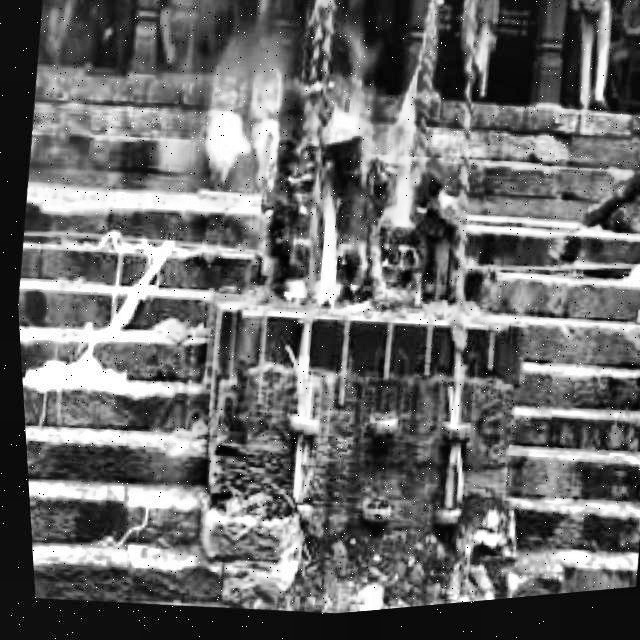Fire: (281, 48, 435, 325)
